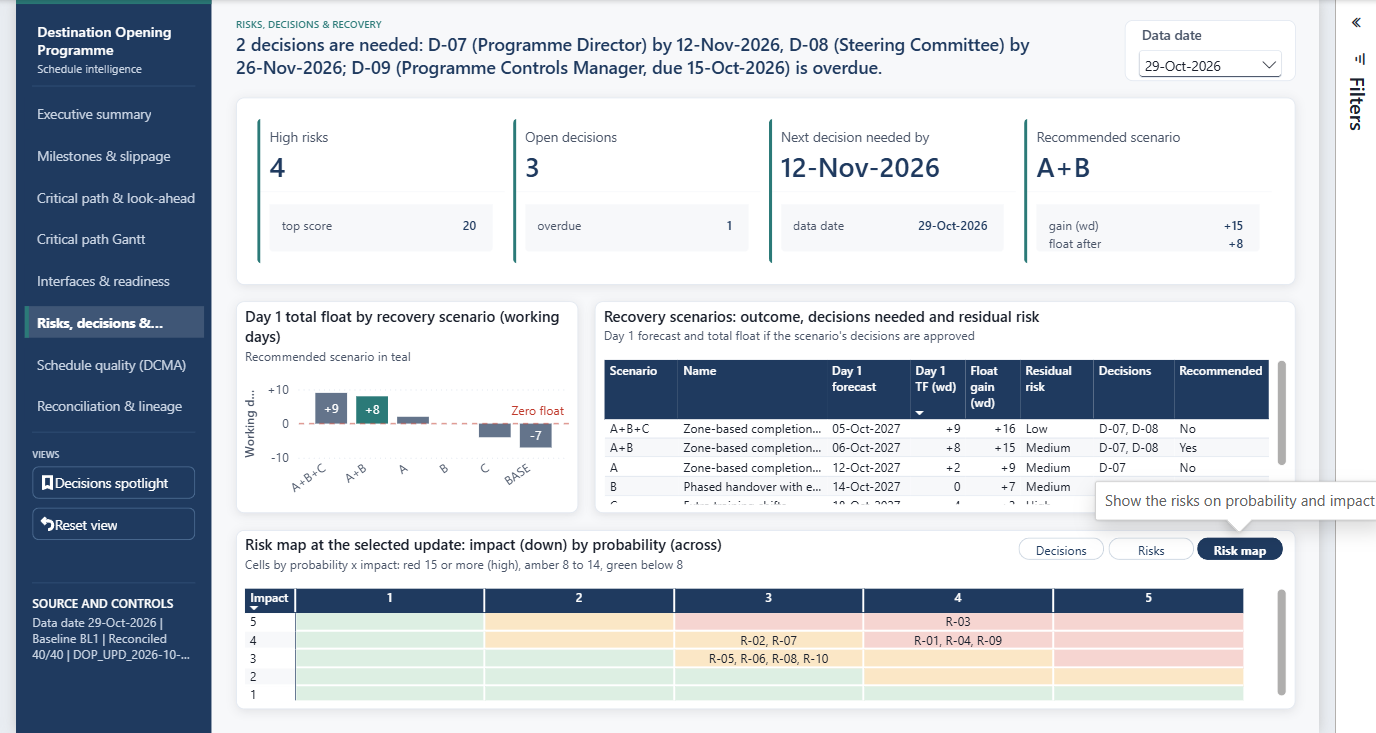

This screenshot's page, from the dashboard's own definition file:
{"tool":"powerbi","page":{"name":"Risks, decisions & recovery","canvas":[1280,720],"ordinal":4},"visuals":[{"type":"textbox","box":[16,8,1032,56],"z":1000},{"type":"slicer","fields":{"Values":["dim_snapshot.data_date"]},"box":[1064,8,200,56],"z":2000},{"type":"card","fields":{"Values":["_Measures.Title - Decisions"]},"box":[16,80,1248,48],"z":3000},{"type":"cardVisual","title":"Risks, decisions and recovery","fields":{"Data":["_Measures.High risks","_Measures.Open decisions","_Measures.Overdue decisions","_Measures.Next decision needed by","_Measures.Recommended scenario","_Measures.Float gain"]},"box":[16,144,1248,120],"z":4000},{"type":"clusteredBarChart","title":"Day 1 total float by recovery scenario (working days)","fields":{"Category":["fact_scenario.scenario_id"],"Y":["Sum(fact_scenario.day1_tf_d)"]},"box":[16,280,416,204],"z":5000},{"type":"tableEx","title":"Recovery scenarios: outcome, decisions needed and residual risk","fields":{"Values":["fact_scenario.scenario_id","fact_scenario.name","fact_scenario.day1_forecast","fact_scenario.day1_tf_d","fact_scenario.float_gain_d","fact_scenario.neg_float_count","fact_scenario.near_critical_count","fact_scenario.residual_risk","fact_scenario.decision","fact_scenario.recommended"]},"box":[448,280,816,204],"z":6000},{"type":"tableEx","title":"Risk register for the selected update","fields":{"Values":["fact_risk.risk_id","fact_risk.title","fact_risk.owner_code","fact_risk.probability","fact_risk.impact","fact_risk.score","fact_risk.rating","fact_risk.trend","fact_risk.mitigation_owner","fact_risk.schedule_impact_days","fact_risk.min_linked_float_d"]},"box":[16,500,616,204],"z":7000},{"type":"tableEx","title":"Decision log (all decisions)","fields":{"Values":["fact_decision.decision_id","fact_decision.ask","fact_decision.owner","fact_decision.raised_data_date","fact_decision.needed_by","fact_decision.status","fact_decision.overdue","fact_decision.closed_on","fact_decision.outcome"]},"box":[648,500,616,204],"z":8000}]}

Visuals, with their boxes on the page's 1280x720 design canvas (x1, y1, x2, y2). These are canvas units, not pixel positions in the 1376x733 screenshot, which may show the page scaled, cropped or inside an application window:
textbox: rect(16, 8, 1048, 64)
slicer - dim_snapshot.data_date: rect(1064, 8, 1264, 64)
card - _Measures.Title - Decisions: rect(16, 80, 1264, 128)
"Risks, decisions and recovery" cardVisual: rect(16, 144, 1264, 264)
"Day 1 total float by recovery scenario (working days)" clusteredBarChart: rect(16, 280, 432, 484)
"Recovery scenarios: outcome, decisions needed and residual risk" tableEx: rect(448, 280, 1264, 484)
"Risk register for the selected update" tableEx: rect(16, 500, 632, 704)
"Decision log (all decisions)" tableEx: rect(648, 500, 1264, 704)
